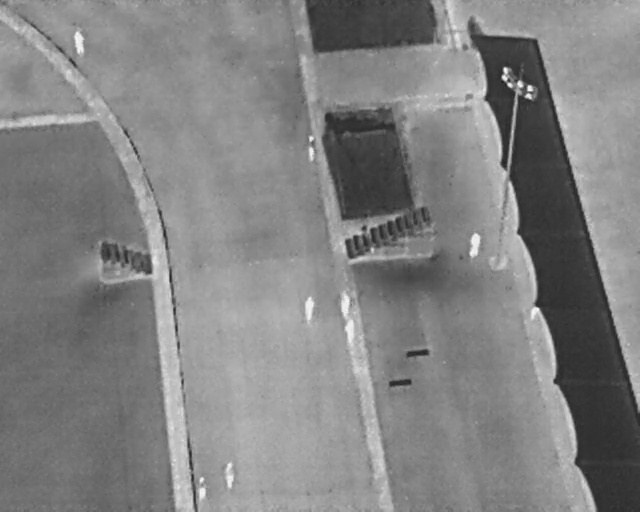Person: (343, 319, 358, 348), (469, 231, 482, 261), (224, 461, 235, 491), (72, 30, 85, 54), (305, 296, 314, 323), (340, 294, 351, 316), (198, 476, 206, 499)
